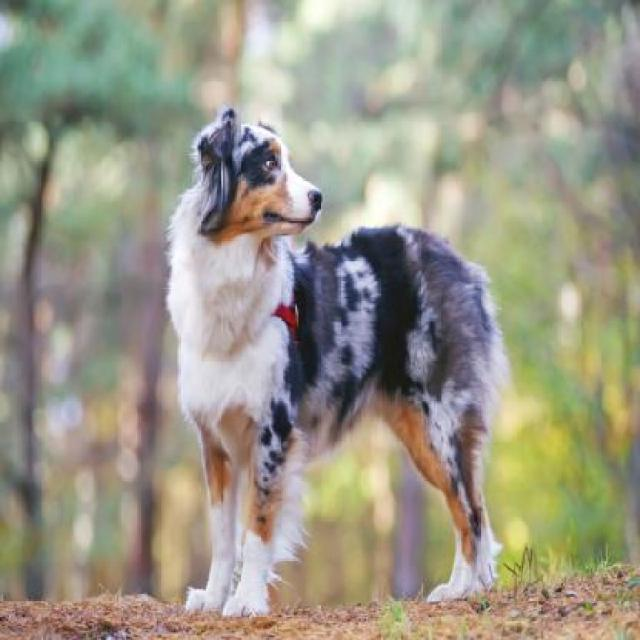animals: (150, 93, 515, 578)
